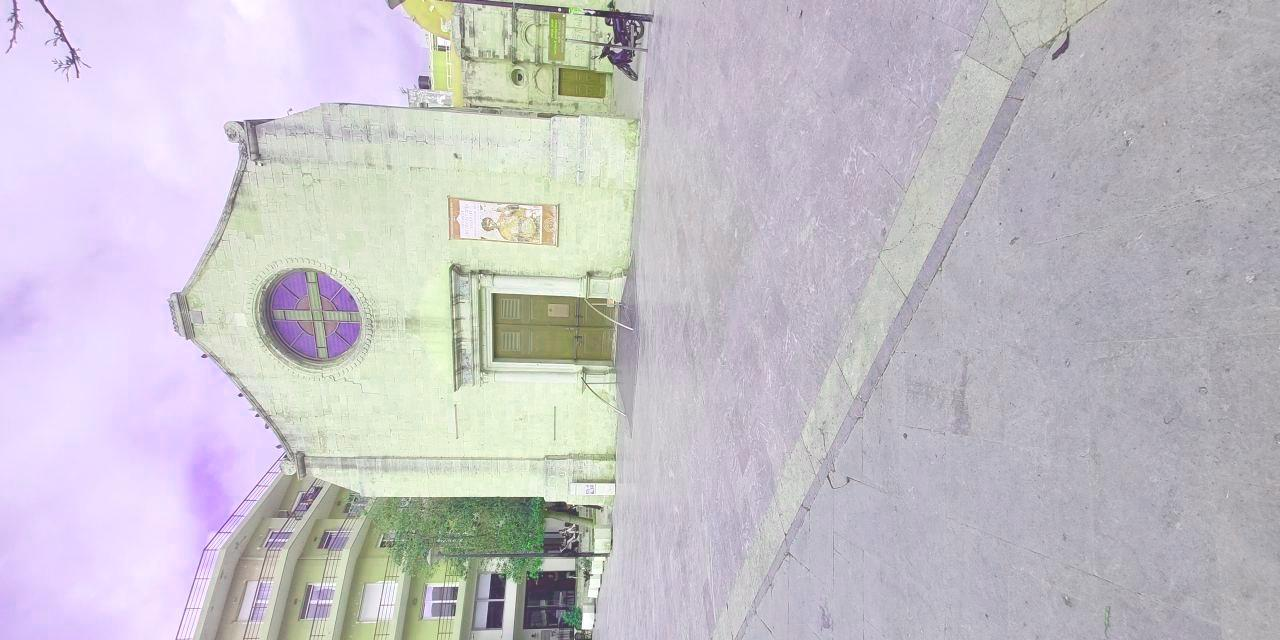Agia Aikaterini: (164, 98, 645, 539)
